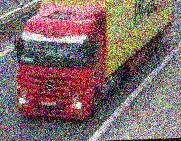truck: (11, 0, 178, 122)
